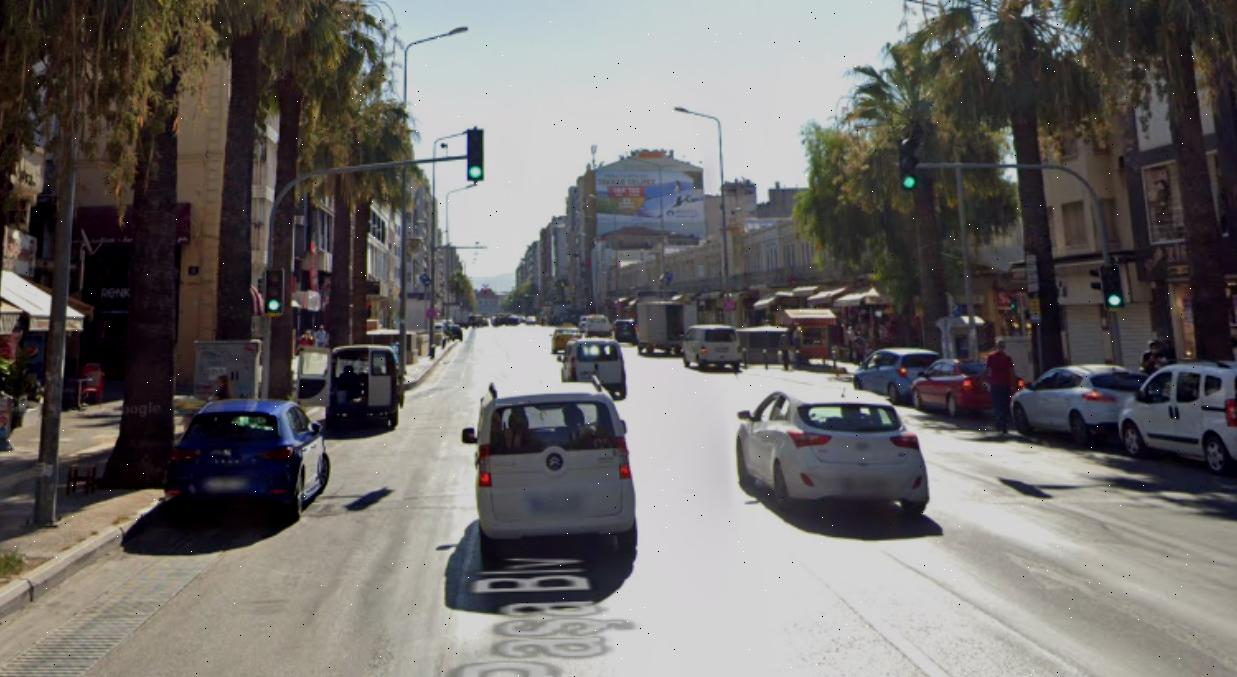greenlight: (898, 132, 923, 189), (1101, 264, 1124, 307), (265, 267, 285, 312), (468, 130, 485, 180)
